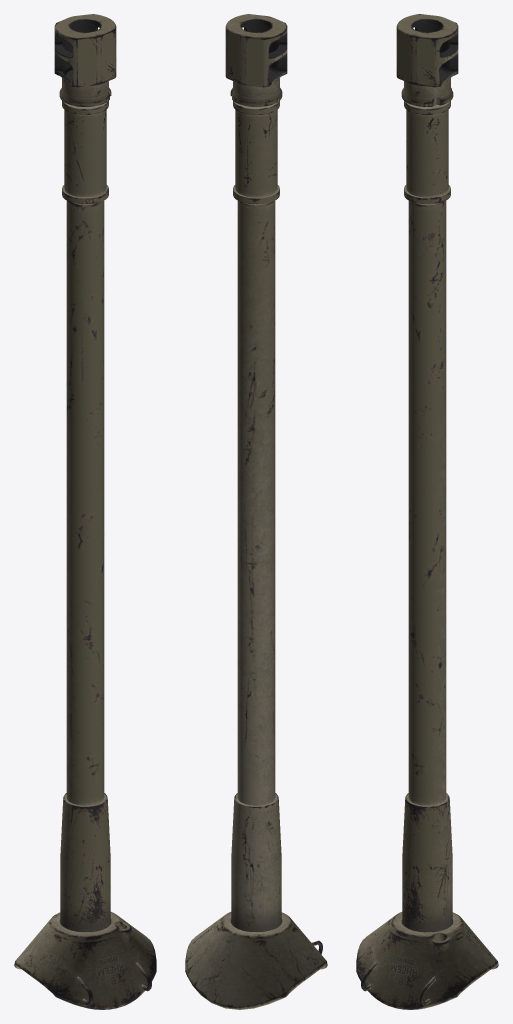
The model's file is Gun_01.glb.
The picture shows the model from 3 angles, left to right: view 1: azimuth 30°, elevation 25°; view 2: azimuth 150°, elevation 25°; view 3: azimuth 330°, elevation 25°; orthographic projection.
Visible parts, largest first — view 1: set_0_group_0; view 2: set_0_group_0; view 3: set_0_group_0.
Part boxes in pixels (x1,y1,x2,y2): set_0_group_0: (14, 14, 156, 1009); set_0_group_0: (185, 14, 327, 1009); set_0_group_0: (356, 14, 498, 1009).
Bounding box in the file's own units: 0.8511 × 6.27 × 0.8098.
1 material, 1 textured.
